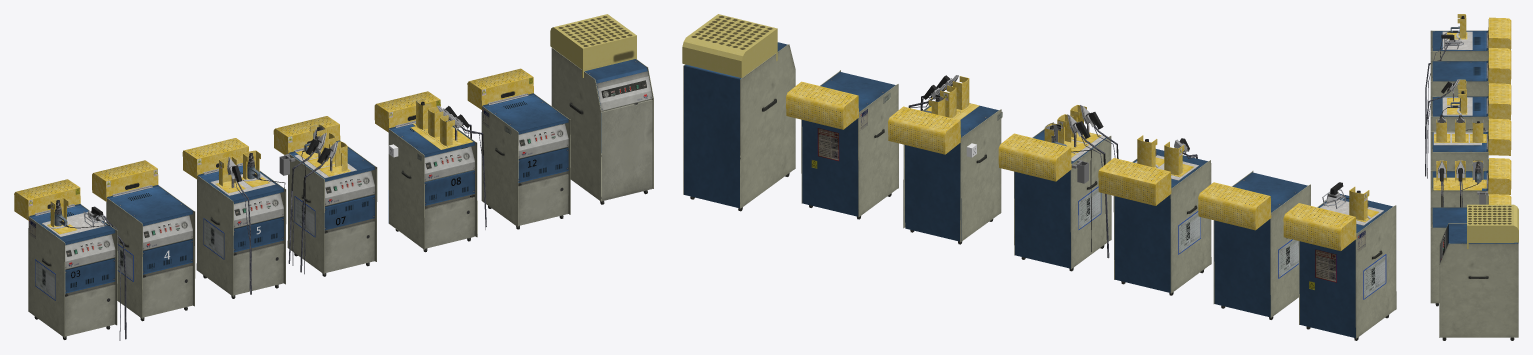
File: YF_LS_ZhengQi.FBX
3 renders of one model, left to right at view 1: azimuth 30°, elevation 25°; view 2: azimuth 150°, elevation 25°; view 3: azimuth 270°, elevation 25°, orthographic. The views are drawn at different scales.
Visible parts, largest first — view 1: YF_Model_ZhengQi_1, YF_Model_ZhengQi12_1, YF_Model_ZhengQi08_1, YF_Model_ZhengQi4_1, YF_Model_ZhengQi03_1, YF_Model_ZhengQi5_1, YF_Model_ZhengQi07_1, YF_Model_ZhengQi12_2 (×2), YF_Model_ZhengQi4_2 (×2), YF_Model_ZhengQi07_2, YF_Model_ZhengQi08_2, YF_Model_ZhengQi03_2 (+4 smaller); view 2: YF_Model_ZhengQi_1, YF_Model_ZhengQi08_1, YF_Model_ZhengQi12_1, YF_Model_ZhengQi5_1, YF_Model_ZhengQi4_1, YF_Model_ZhengQi03_1, YF_Model_ZhengQi07_1, YF_Model_ZhengQi12_2 (×2), YF_Model_ZhengQi4_2 (×2), YF_Model_ZhengQi07_2, YF_Model_ZhengQi08_2, YF_Model_ZhengQi03_2 (+5 smaller); view 3: YF_Model_ZhengQi_1, YF_Model_ZhengQi4_2 (×2), YF_Model_ZhengQi08_2, YF_Model_ZhengQi12_2 (×2), YF_Model_ZhengQi07_2, YF_Model_ZhengQi4_1, YF_Model_ZhengQi03_2, YF_Model_ZhengQi12_1, YF_Model_ZhengQi07_1, YF_Model_ZhengQi03_1, YF_Model_ZhengQi5_1, YF_Model_ZhengQi08_1.
Boxes of the visible parts, bbox=[...] form: YF_Model_ZhengQi_1: bbox=[551, 48, 653, 204]; YF_Model_ZhengQi12_1: bbox=[481, 93, 570, 229]; YF_Model_ZhengQi08_1: bbox=[388, 121, 477, 252]; YF_Model_ZhengQi4_1: bbox=[106, 185, 195, 321]; YF_Model_ZhengQi03_1: bbox=[28, 204, 117, 339]; YF_Model_ZhengQi5_1: bbox=[196, 165, 286, 298]; YF_Model_ZhengQi07_1: bbox=[287, 140, 377, 276]; YF_Model_ZhengQi12_2 (×2): bbox=[467, 14, 636, 109]; YF_Model_ZhengQi4_2 (×2): bbox=[92, 138, 285, 294]; YF_Model_ZhengQi07_2: bbox=[273, 116, 356, 274]; YF_Model_ZhengQi08_2: bbox=[374, 91, 486, 229]; YF_Model_ZhengQi03_2: bbox=[14, 179, 126, 340]; YF_Model_ZhengQi_1: bbox=[683, 42, 795, 211]; YF_Model_ZhengQi08_1: bbox=[903, 105, 1001, 244]; YF_Model_ZhengQi12_1: bbox=[801, 70, 898, 219]; YF_Model_ZhengQi5_1: bbox=[1113, 149, 1211, 295]; YF_Model_ZhengQi4_1: bbox=[1213, 171, 1310, 319]; YF_Model_ZhengQi03_1: bbox=[1298, 191, 1396, 340]; YF_Model_ZhengQi07_1: bbox=[1014, 122, 1111, 271]; YF_Model_ZhengQi12_2 (×2): bbox=[682, 14, 858, 129]; YF_Model_ZhengQi4_2 (×2): bbox=[1098, 135, 1271, 230]; YF_Model_ZhengQi07_2: bbox=[998, 105, 1118, 258]; YF_Model_ZhengQi08_2: bbox=[888, 75, 979, 154]; YF_Model_ZhengQi03_2: bbox=[1283, 182, 1383, 250]; YF_Model_ZhengQi_1: bbox=[1439, 223, 1518, 340]; YF_Model_ZhengQi4_2 (×2): bbox=[1425, 48, 1511, 178]; YF_Model_ZhengQi08_2: bbox=[1433, 158, 1511, 207]; YF_Model_ZhengQi12_2 (×2): bbox=[1467, 194, 1518, 248]; YF_Model_ZhengQi07_2: bbox=[1433, 115, 1511, 155]; YF_Model_ZhengQi4_1: bbox=[1430, 61, 1488, 96]; YF_Model_ZhengQi03_2: bbox=[1425, 14, 1511, 138]; YF_Model_ZhengQi12_1: bbox=[1430, 207, 1466, 306]; YF_Model_ZhengQi07_1: bbox=[1430, 131, 1488, 170]; YF_Model_ZhengQi03_1: bbox=[1430, 30, 1488, 60]; YF_Model_ZhengQi5_1: bbox=[1430, 96, 1488, 131]; YF_Model_ZhengQi08_1: bbox=[1430, 170, 1488, 207].
Bounding box in the file's own units: 585 × 145 × 99.48.
4 materials, 4 textured.
